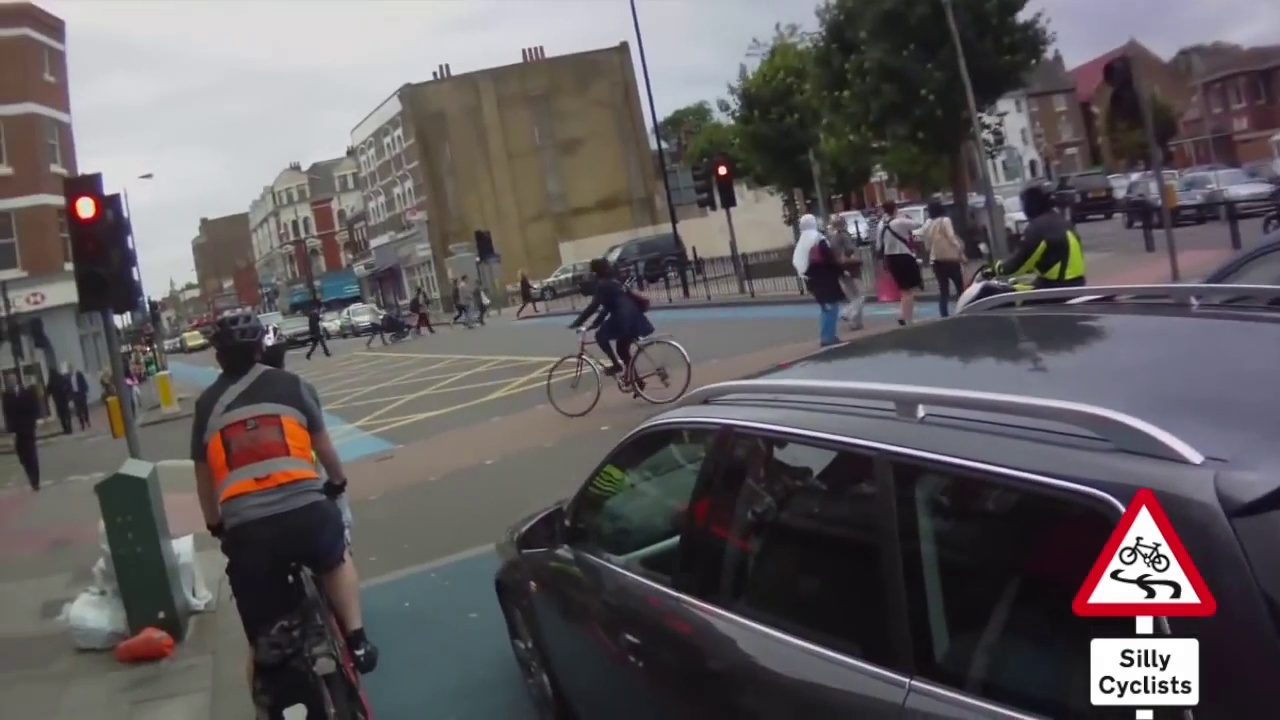cyclist_back: (162, 296, 405, 711)
cyclist_side: (545, 261, 703, 415)
